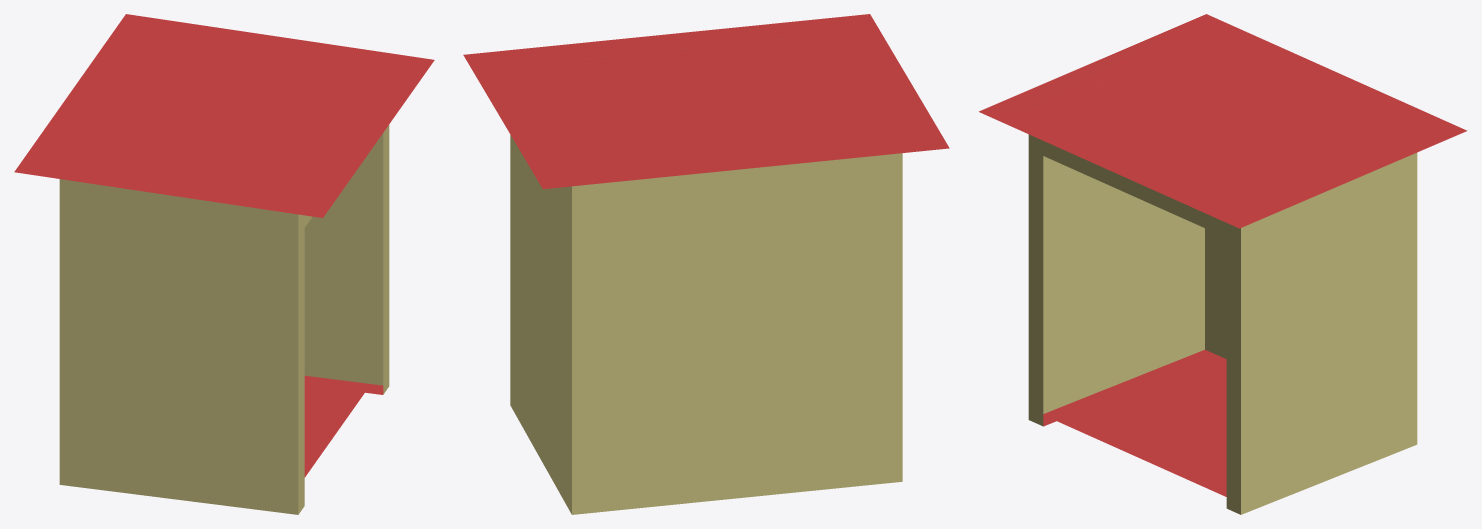
The picture shows the model from 3 angles, left to right: view 1: azimuth 30°, elevation 25°; view 2: azimuth 150°, elevation 25°; view 3: azimuth 270°, elevation 25°; orthographic projection. The views are drawn at different scales.
Parts seen in each view (by area): view 1: group_5, group_3, group_4, group_6; view 2: group_5, group_3, group_4; view 3: group_5, group_3, group_6, group_4.
Boxes of the visible parts, <box> form: group_5: <box>59,125,389,514</box>; group_3: <box>14,14,433,197</box>; group_4: <box>16,51,434,217</box>; group_6: <box>304,375,383,477</box>; group_5: <box>510,135,902,514</box>; group_3: <box>463,33,949,189</box>; group_4: <box>463,14,949,147</box>; group_5: <box>1028,134,1417,514</box>; group_3: <box>1029,14,1467,227</box>; group_6: <box>1043,350,1226,496</box>; group_4: <box>979,14,1328,228</box>.
Bounding box in the file's own units: 10.35 × 10.3 × 7.3.
